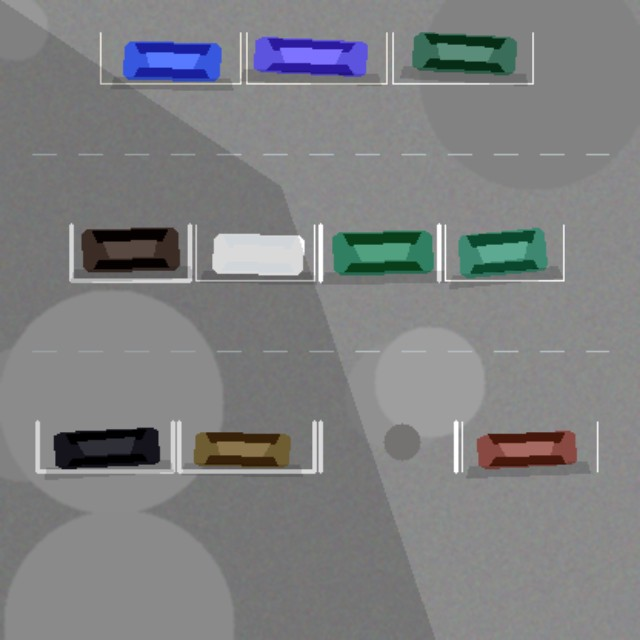space-empty: (320, 422, 455, 471)
space-occupied: (100, 32, 240, 83), (246, 32, 386, 83), (392, 32, 532, 83), (178, 422, 314, 471), (37, 422, 172, 471), (462, 422, 597, 471), (195, 225, 314, 280), (71, 225, 189, 280), (320, 225, 438, 280), (445, 225, 563, 280)
